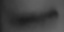LeftEyeFatigue: (7, 5, 60, 30)
